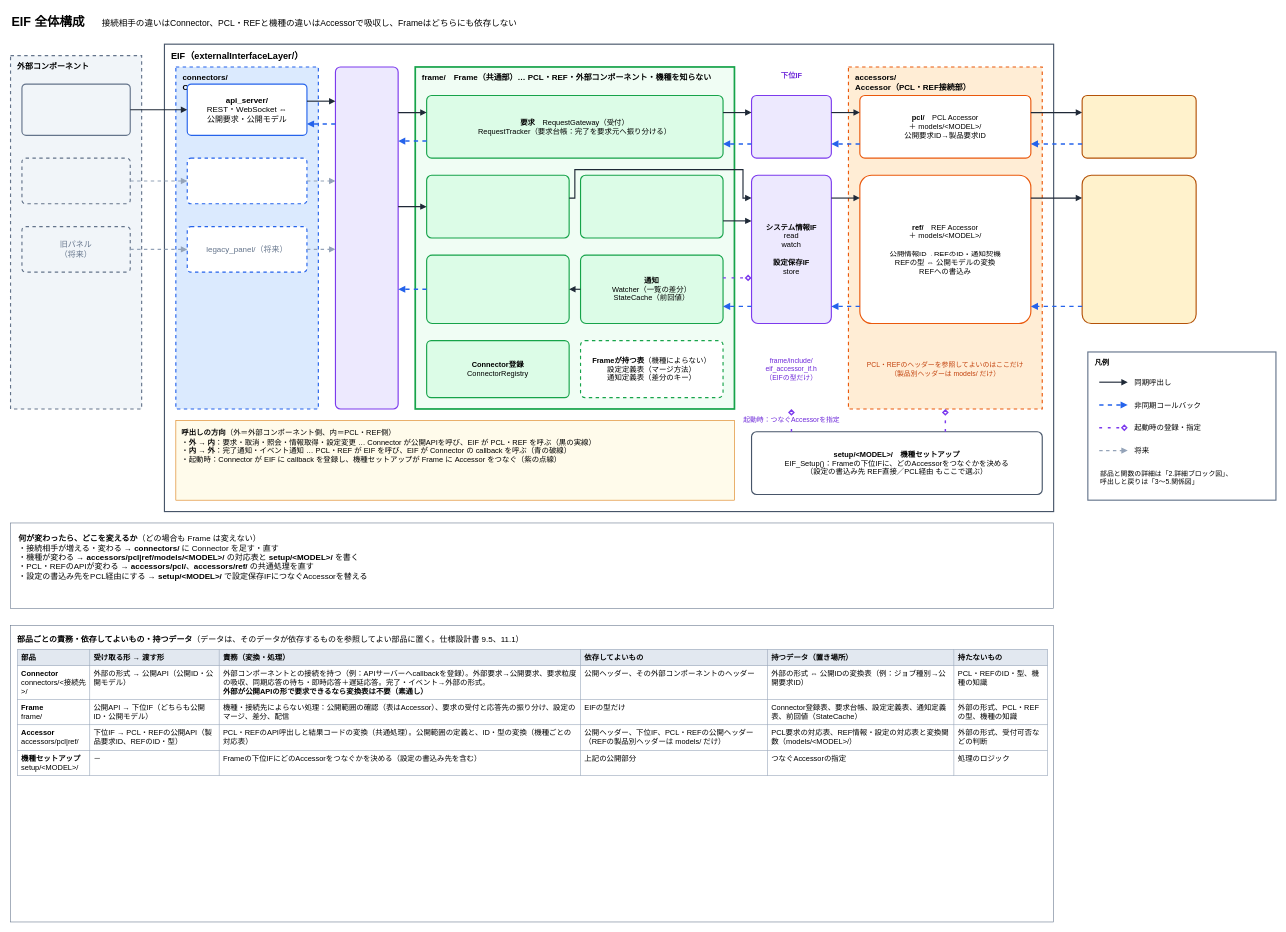
Some shapes in this 1286 by 932 pixel diagram are drawn without their labels. The shapes that lost their labels are listed below. From the top down, each one's centre as x and y in pixels, then its label:
(x=76, y=109): APIサーバー REST / WebSocket
(x=791, y=126): 製品制御IF submit cancel・query
(x=1138, y=126): 製品制御層（PCL）
(x=76, y=180): PCインタフェース （将来）
(x=246, y=180): pcif/（将来）
(x=497, y=206): 情報 InfoReader
(x=651, y=206): 設定 SettingMerger （公開モデルでマージ）
(x=366, y=237): 公開API include/ eif_api.h 要求 情報 設定 完了・ イベントの callback
(x=1138, y=249): 参照サービス （REF／RIM）
(x=497, y=289): 配信 EventDispatcher
